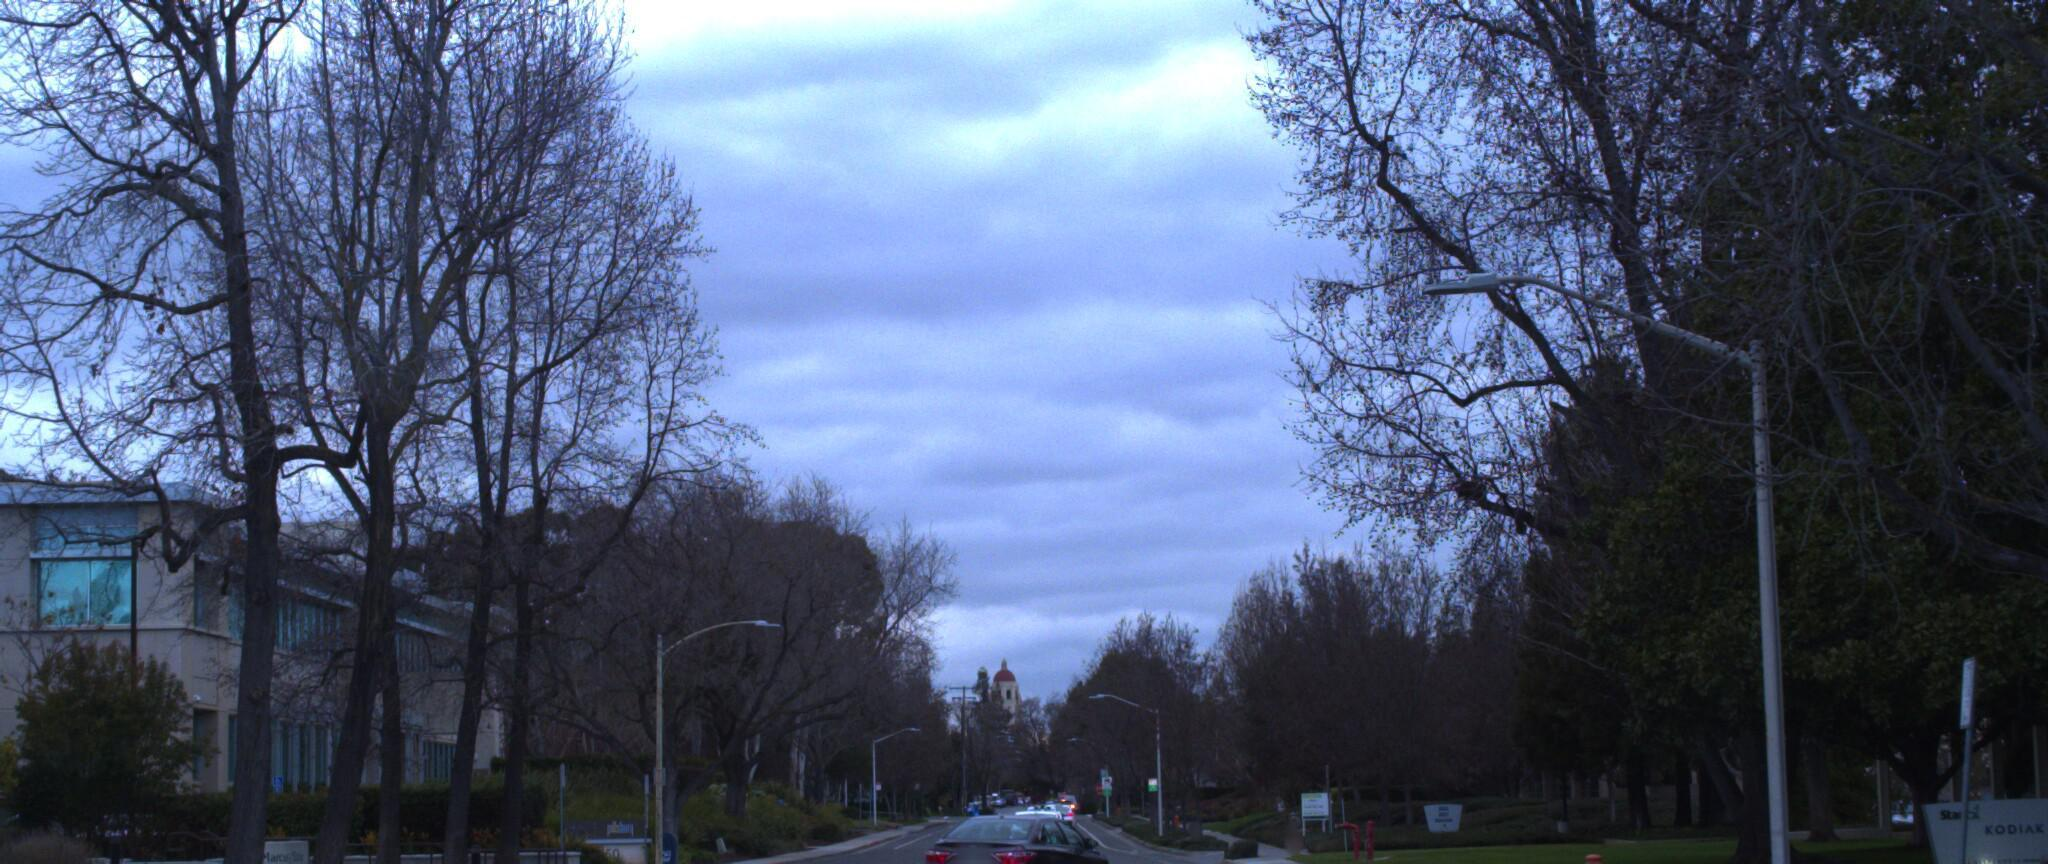car: (910, 818, 1125, 864)
